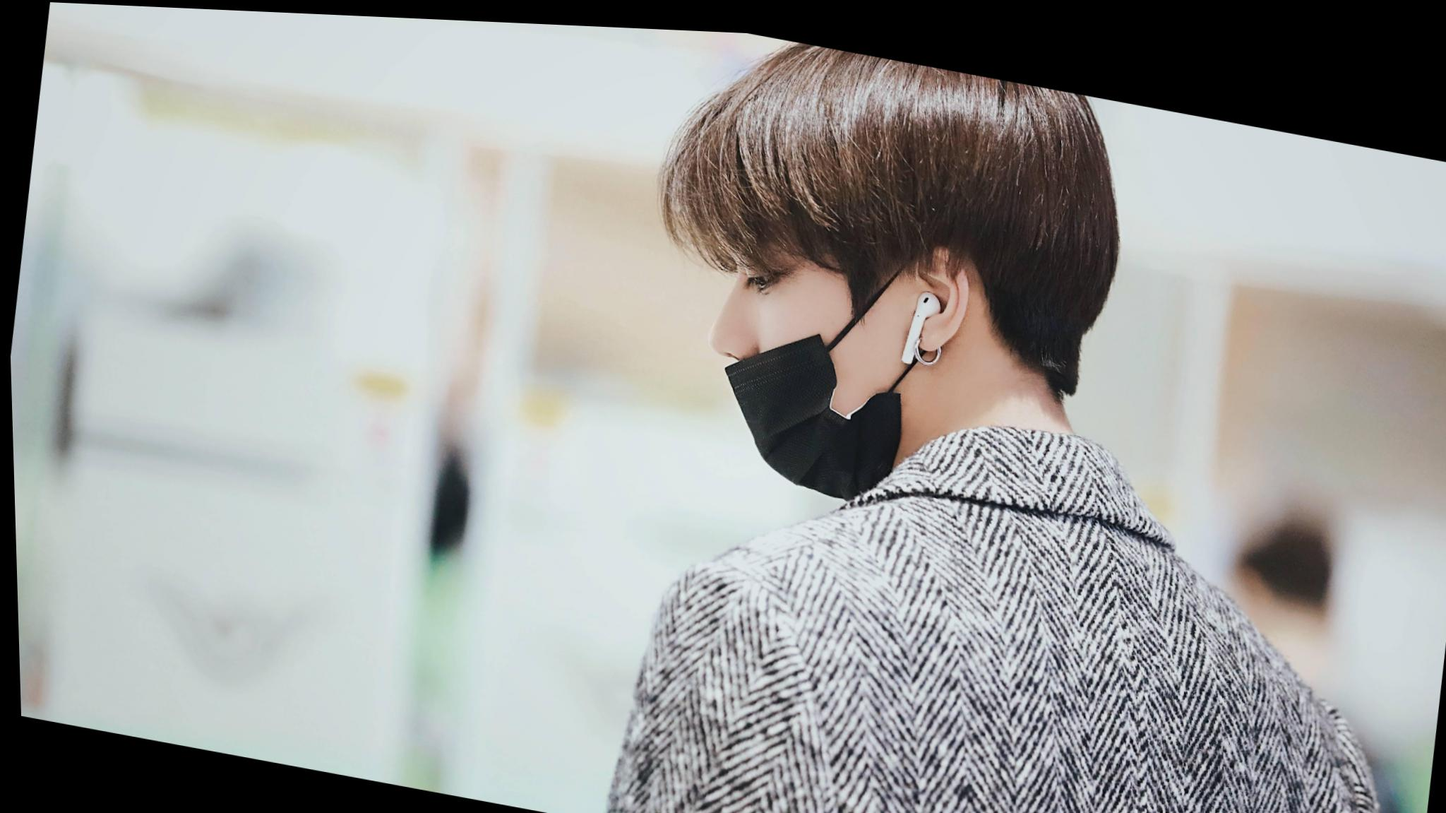WRONG: (688, 198, 921, 505)
